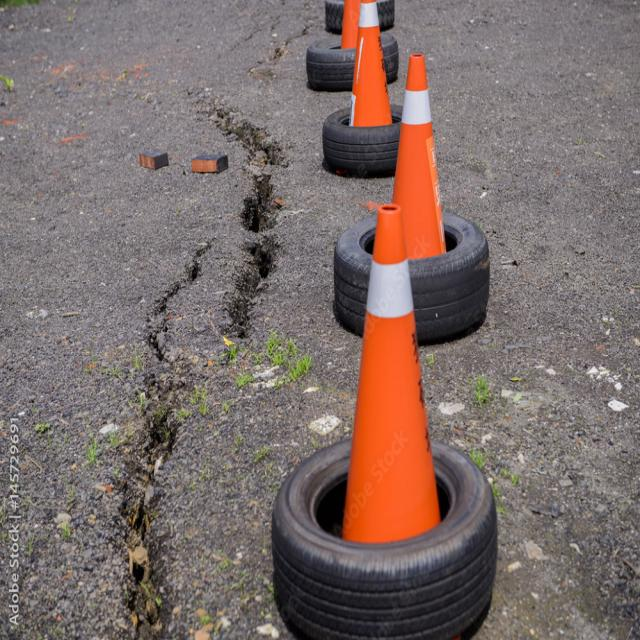Pothole: (78, 69, 527, 640)
